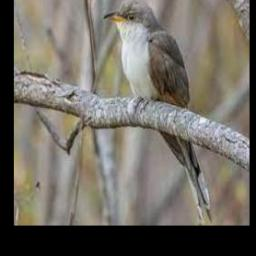Cuckoo: (102, 0, 215, 223)
